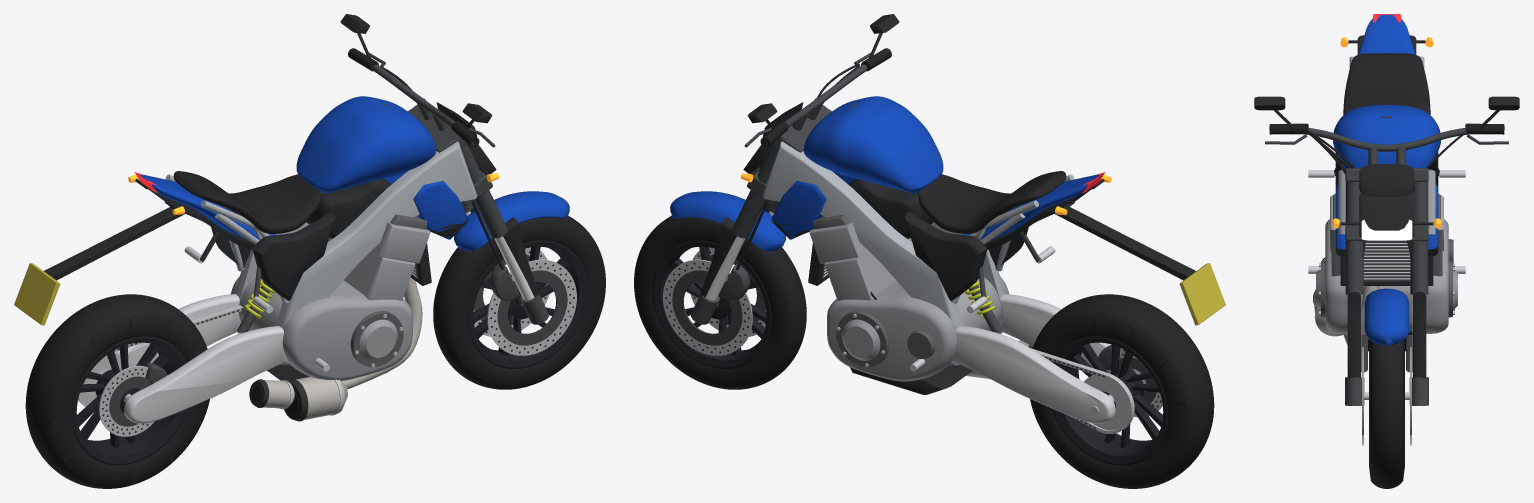
File: kazeda_naked.glb
3 views of the same model, side by side, from view 1: azimuth 30°, elevation 25°; view 2: azimuth 150°, elevation 25°; view 3: azimuth 270°, elevation 25° (orthographic). The views are drawn at different scales.
Visible parts, largest first — view 1: kazeda_naked; view 2: kazeda_naked; view 3: kazeda_naked.
Boxes of the visible parts, x1,y1,x2,y2 form: kazeda_naked: (14,14,605,488); kazeda_naked: (634,14,1225,488); kazeda_naked: (1254,14,1519,488).
Size of the model in its own units: 2.07 by 1.2 by 0.86.
